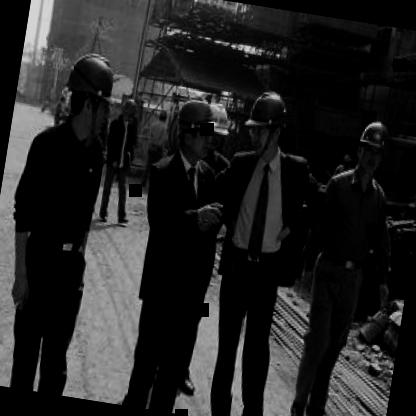helmet: (58, 50, 116, 141), (240, 84, 292, 157), (168, 95, 216, 162), (350, 114, 394, 181), (202, 97, 236, 160), (116, 93, 139, 128)
